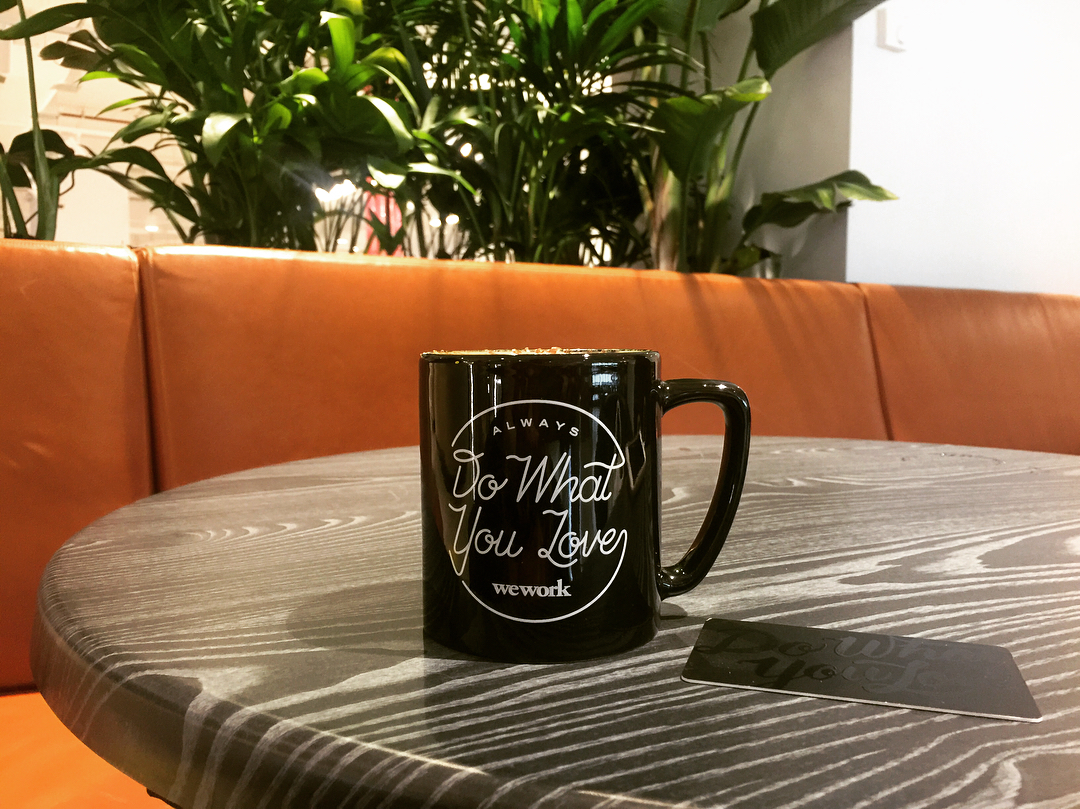wework: (489, 576, 574, 600)
